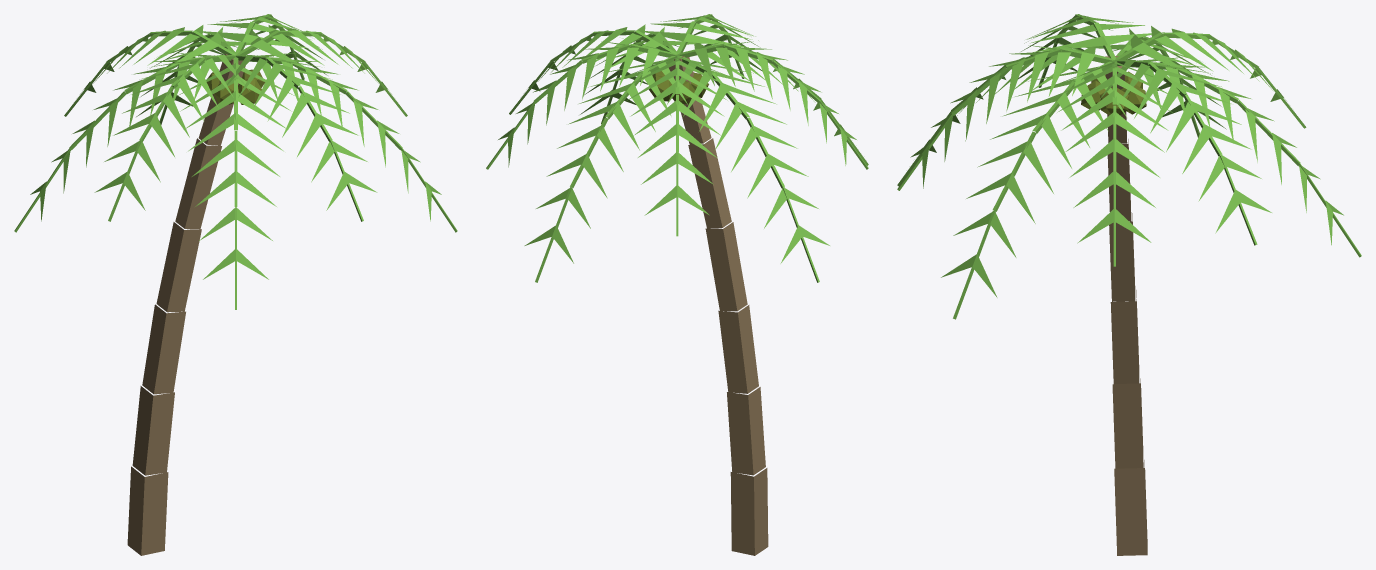
Rendered from viet_tree_coconut.glb.
The picture shows the model from 3 angles, left to right: view 1: azimuth 30°, elevation 25°; view 2: azimuth 150°, elevation 25°; view 3: azimuth 270°, elevation 25°; orthographic projection. The views are drawn at different scales.
Visible parts, largest first — view 1: viet_tree_coconut; view 2: viet_tree_coconut; view 3: viet_tree_coconut.
Part boxes in pixels (box(x1,y1,x2,y2)): viet_tree_coconut: box(14, 14, 457, 555); viet_tree_coconut: box(486, 14, 868, 555); viet_tree_coconut: box(897, 14, 1361, 555).
Bounding box in the file's own units: 0.7528 × 1 × 0.7662.
